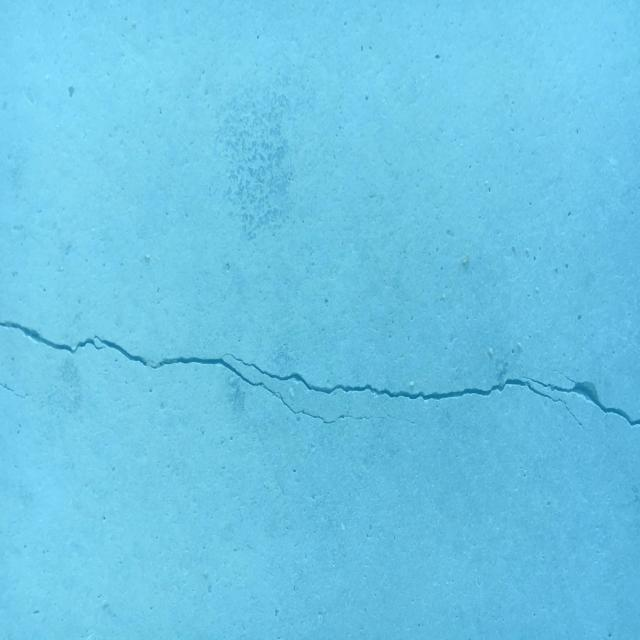crack: (0, 319, 640, 426), (0, 382, 33, 400), (387, 415, 414, 425)
